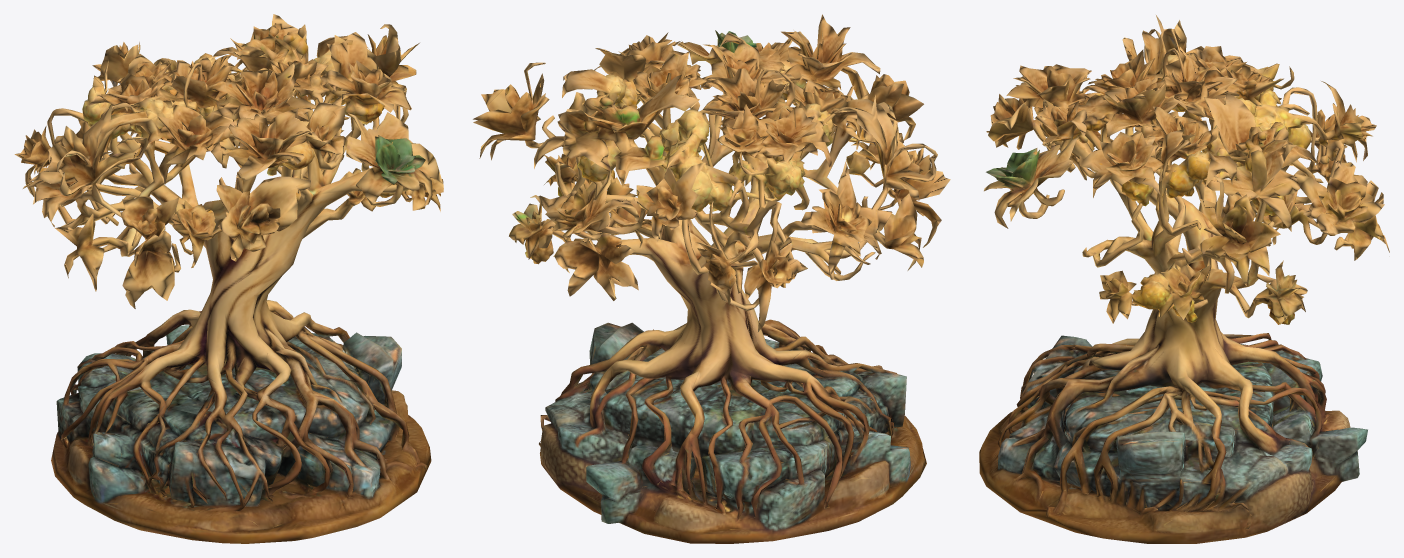
The model's file is arbol.glb.
3 views of the same model, side by side, from view 1: azimuth 30°, elevation 25°; view 2: azimuth 150°, elevation 25°; view 3: azimuth 270°, elevation 25° (orthographic). The views are drawn at different scales.
Visible parts, largest first — view 1: Mesh1.0; view 2: Mesh1.0; view 3: Mesh1.0.
Boxes of the visible parts, x1,y1,x2,y2 form: Mesh1.0: (14,14,443,543); Mesh1.0: (473,14,950,543); Mesh1.0: (979,15,1389,543).
Bounding box in the file's own units: 1.89 × 1.77 × 1.66.
Materials: 1 (1 with a texture image).
